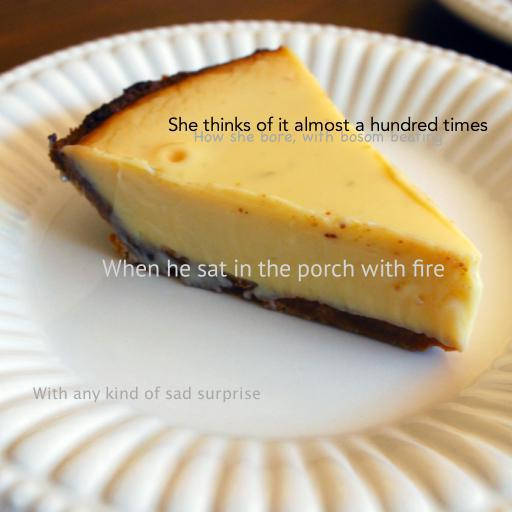Avenir: (168, 116, 488, 132)
Chalkboard: (193, 130, 443, 147)
Lucida Grande: (33, 386, 261, 403)
PT Sans: (101, 259, 445, 282)
